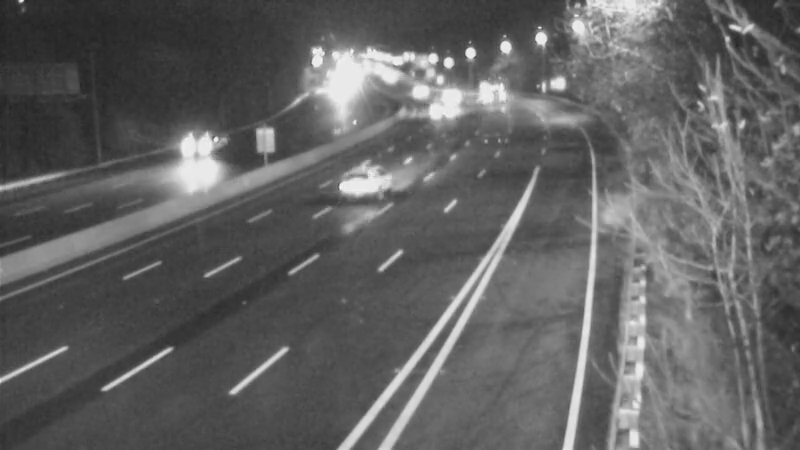vehicle: (331, 144, 411, 224), (363, 54, 413, 104), (462, 68, 512, 118), (394, 66, 444, 116), (429, 68, 479, 118), (418, 86, 468, 136), (175, 123, 225, 173), (313, 68, 363, 118)
